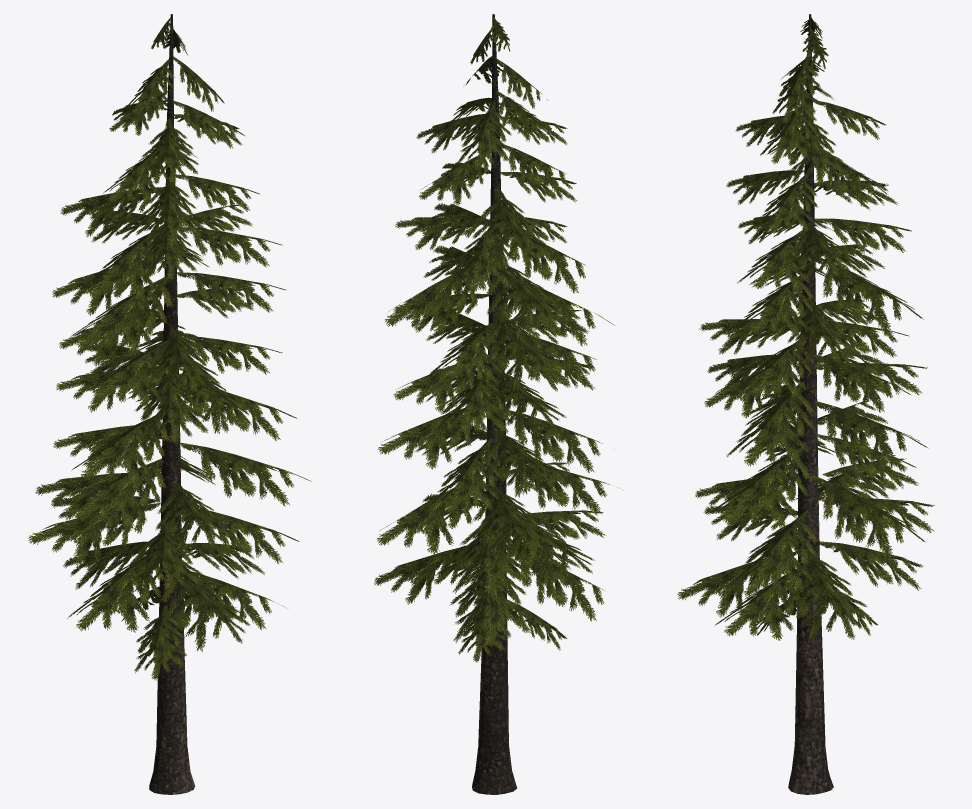
The model's file is pine_tree_n_2_4.glb.
3 renders of one model, left to right at view 1: azimuth 30°, elevation 25°; view 2: azimuth 150°, elevation 25°; view 3: azimuth 270°, elevation 25°, orthographic.
Parts seen in each view (by area): view 1: pine_tree_n_2_4_branches, pine_tree_n_2_4; view 2: pine_tree_n_2_4_branches, pine_tree_n_2_4; view 3: pine_tree_n_2_4_branches, pine_tree_n_2_4.
Part boxes in pixels (x1,y1,x2,y2): pine_tree_n_2_4_branches: [28, 17, 311, 680]; pine_tree_n_2_4: [149, 14, 195, 794]; pine_tree_n_2_4_branches: [374, 17, 614, 662]; pine_tree_n_2_4: [472, 14, 517, 794]; pine_tree_n_2_4_branches: [677, 17, 934, 643]; pine_tree_n_2_4: [788, 14, 833, 794].
Bounding box in the file's own units: 1.63 × 4.59 × 1.54.
2 materials, 2 textured.
